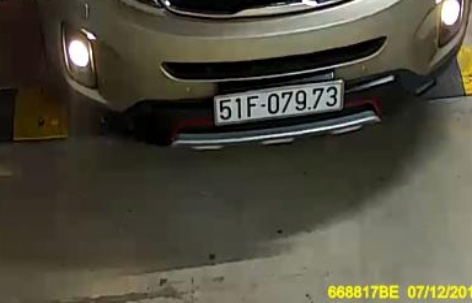plate: (211, 81, 354, 124)
